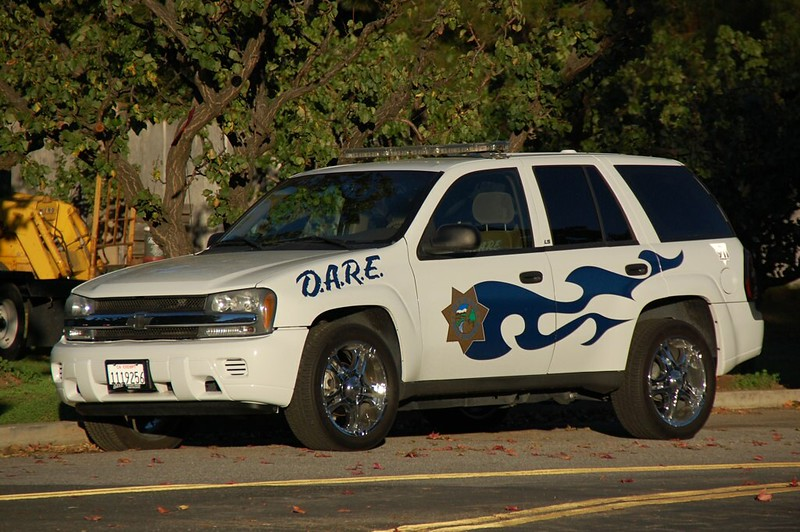car: (48, 139, 768, 450)
